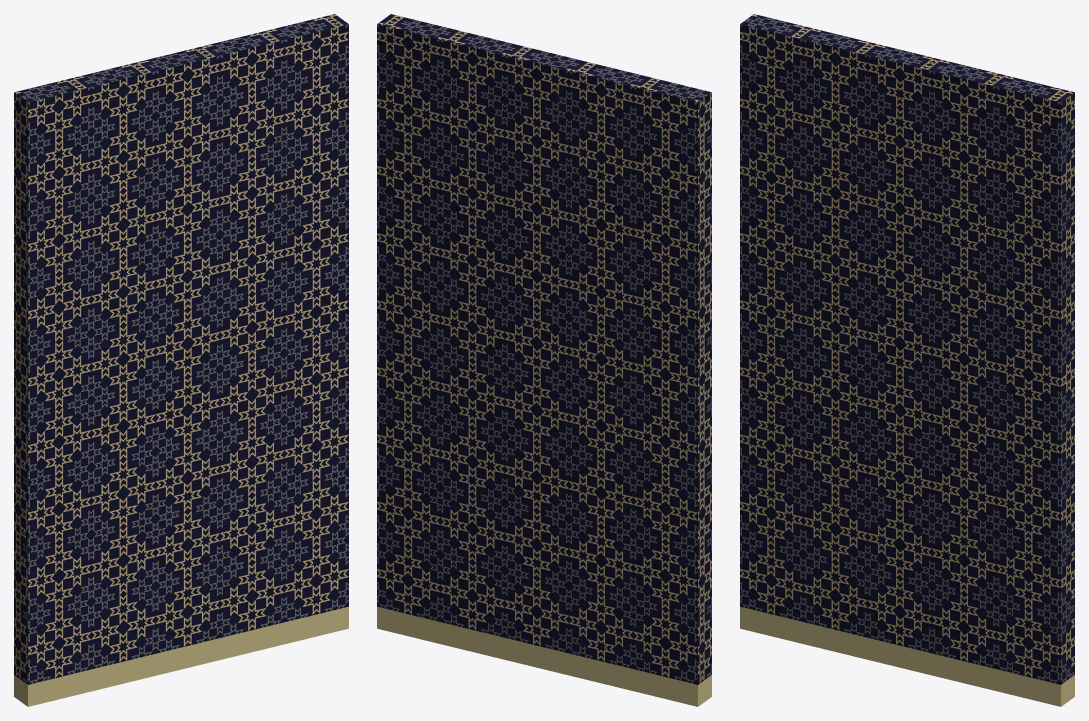
The model's file is ARC0210050.fbx.
3 views of the same model, side by side, from view 1: azimuth 30°, elevation 25°; view 2: azimuth 150°, elevation 25°; view 3: azimuth 330°, elevation 25° (orthographic).
Parts seen in each view (by area): view 1: smARC0210050; view 2: smARC0210050; view 3: smARC0210050.
Boxes of the visible parts, x1,y1,x2,y2 form: smARC0210050: (14,14,348,706); smARC0210050: (377,14,711,706); smARC0210050: (740,14,1074,706).
Bounding box in the file's own units: 182 × 328 × 13.67.
Materials: 1 (1 with a texture image).
